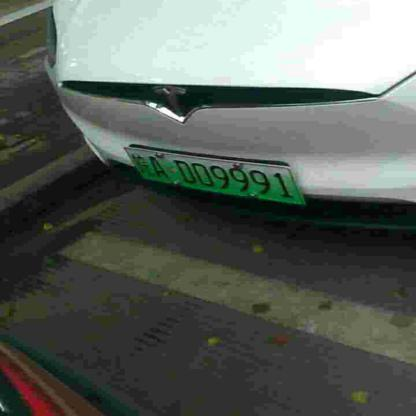lp: (126, 146, 305, 204)
